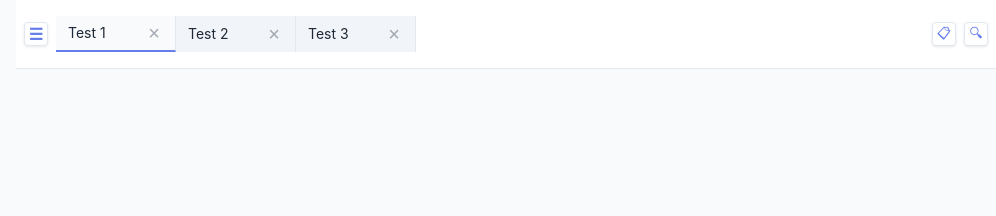
Scenario: TabsBar › shows all tabs in dropdown
Click the button with class "tabs-dropdown-btn": (944, 34) top-left (932, 22), bottom-right (956, 46)
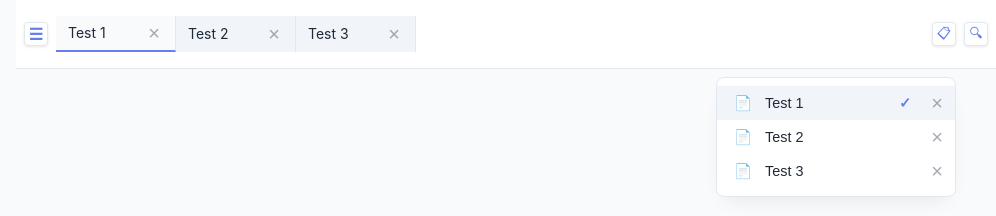
expect the menu with class "tabs-dropdown" is shown: met, box top-left (716, 77), bottom-right (956, 197)
expect the number of elements with class "tabs-dropdown-item-wrapper" is 3: met, box top-left (717, 86), bottom-right (955, 120); top-left (717, 120), bottom-right (955, 154); top-left (717, 154), bottom-right (955, 188)
